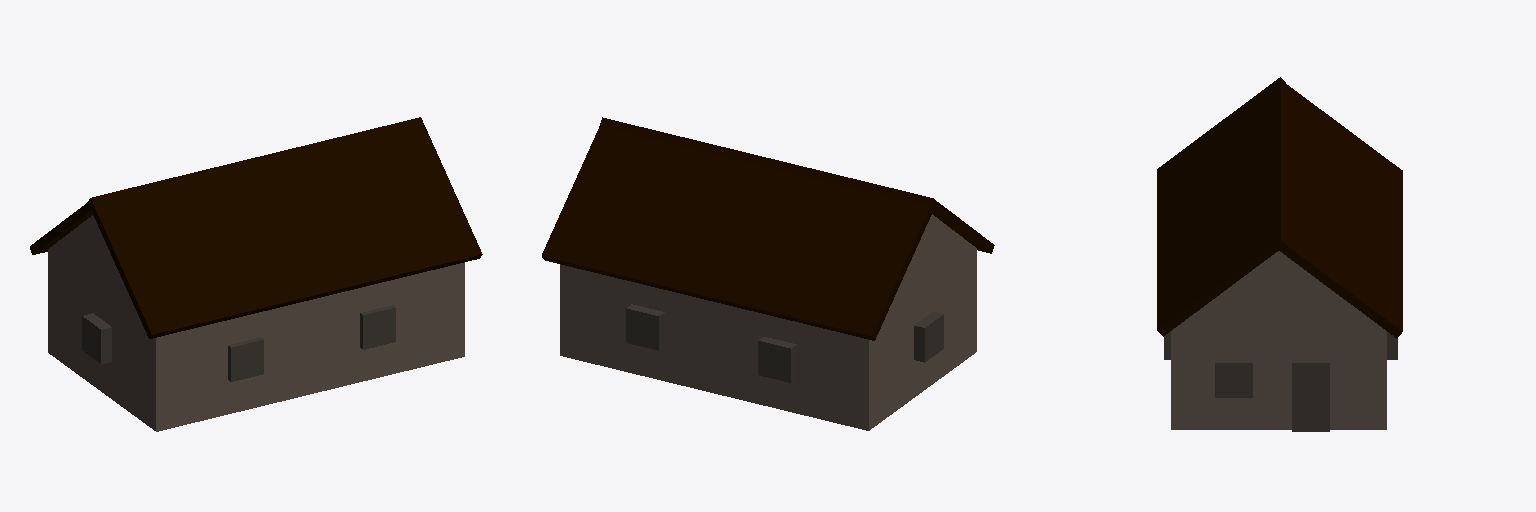
File: house_norse.obj
3 views of the same model, side by side, from view 1: azimuth 30°, elevation 25°; view 2: azimuth 150°, elevation 25°; view 3: azimuth 270°, elevation 25° (orthographic).
Visible parts, largest first — view 1: mesh[number redacted]; view 2: mesh[number redacted]; view 3: mesh[number redacted].
Boxes of the visible parts, <box> form: mesh[number redacted]: <box>30,117,482,431</box>; mesh[number redacted]: <box>542,117,994,430</box>; mesh[number redacted]: <box>1157,77,1402,431</box>.
Bounding box in the file's own units: 1 × 0.5687 × 0.6437.